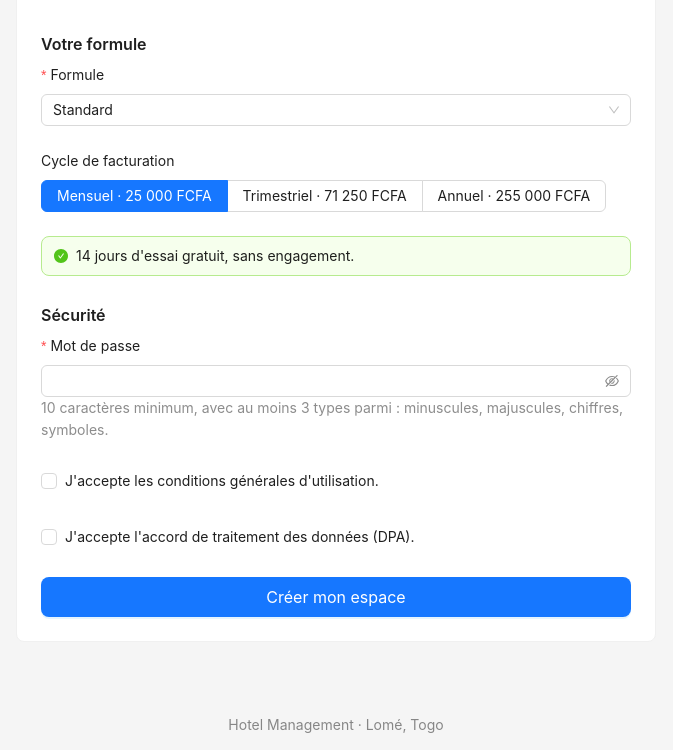
Test case: signup form validation › shows the field errors and does not call the API when the form is empty
(page scrolled)
Click the button "Créer mon espace".
click(336, 597)  # box [41, 577, 631, 617]
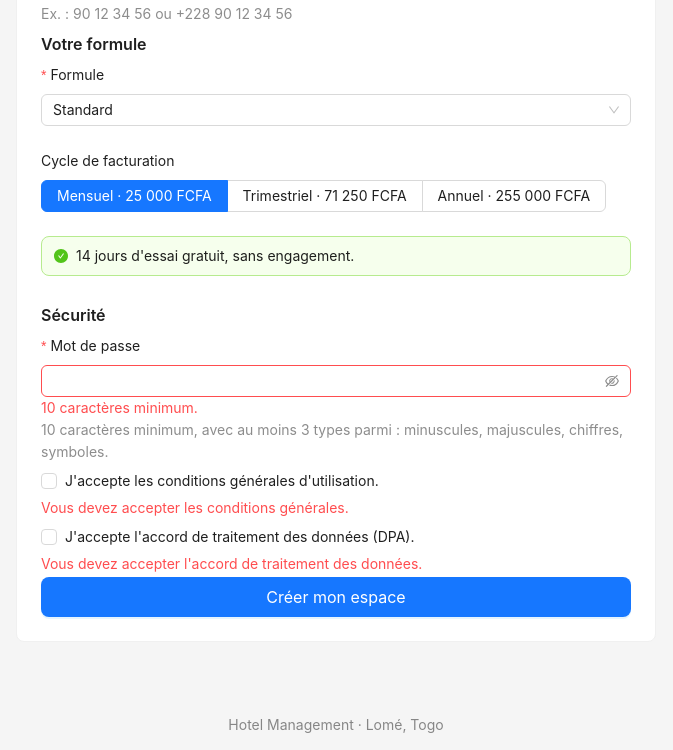
Expected: the text "10 caractères minimum." is shown, [41, 399, 198, 416]
Expected: the text "Vous devez accepter les conditions générales." is shown, [41, 499, 349, 516]
Expected: the text "Vous devez accepter l'accord de traitement des données." is shown, [41, 555, 422, 572]
